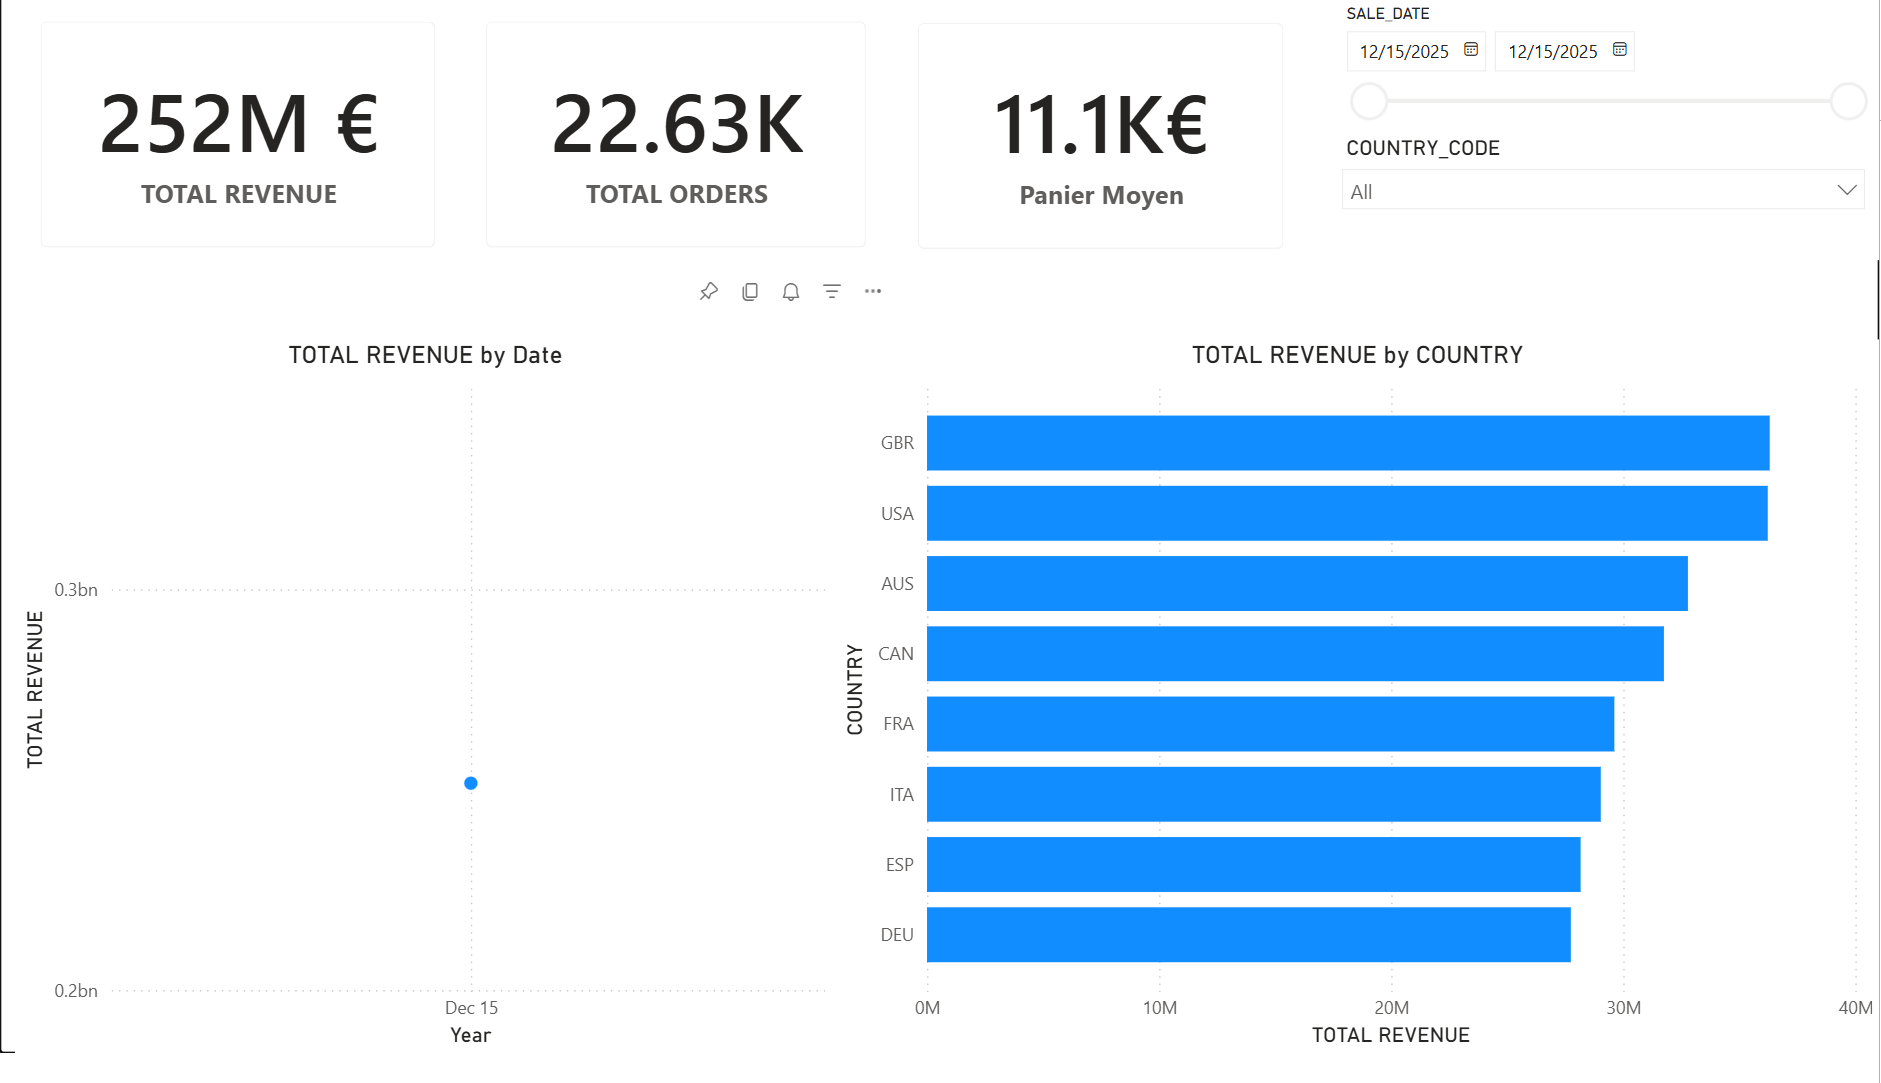

What the dashboard file says about the page in this screenshot:
{"tool":"powerbi","page":{"name":"Vue d'ensemble","canvas":[1280,720],"ordinal":0},"visuals":[{"type":"cardVisual","fields":{"Data":["Sum(MART_SALES_OVERVIEW.TOTAL_REVENUE)"]},"box":[10,0,303.9,188.1],"z":0},{"type":"cardVisual","fields":{"Data":["Sum(MART_SALES_OVERVIEW.TOTAL_ORDERS)"]},"box":[313.9,0,294,188.1],"z":1000},{"type":"lineChart","title":"TOTAL REVENUE by Date","fields":{"Y":["Sum(MART_SALES_OVERVIEW.TOTAL_REVENUE)"],"Category":["MART_SALES_OVERVIEW.SALE_DATE.Variation.Date Hierarchy.Year","MART_SALES_OVERVIEW.SALE_DATE.Variation.Date Hierarchy.Quarter","MART_SALES_OVERVIEW.SALE_DATE.Variation.Date Hierarchy.Month","MART_SALES_OVERVIEW.SALE_DATE.Variation.Date Hierarchy.Day"]},"box":[10,234.2,559.3,485.8],"z":2000},{"type":"barChart","fields":{"Category":["MART_SALES_OVERVIEW.COUNTRY_CODE"],"Y":["Sum(MART_SALES_OVERVIEW.TOTAL_REVENUE)"]},"box":[569.2,234.2,711.2,485.8],"z":3000},{"type":"cardVisual","fields":{"Data":["MART_SALES_OVERVIEW.Panier Moyen"]},"box":[607.8,1.2,284,188.1],"z":4000},{"type":"slicer","fields":{"Values":["MART_SALES_OVERVIEW.SALE_DATE"]},"box":[904.3,0,376.2,89.7],"z":5000},{"type":"slicer","fields":{"Values":["MART_SALES_OVERVIEW.COUNTRY_CODE"]},"box":[904.3,89.7,376.2,89.7],"z":6000}]}

Visuals, with their boxes on the page's 1280x720 design canvas (x1, y1, x2, y2). These are canvas units, not pixel positions in the 1881x1083 screenshot, which may show the page scaled, cropped or inside an application window:
cardVisual - Sum(MART_SALES_OVERVIEW.TOTAL_REVENUE): l=10, t=0, r=314, b=188
cardVisual - Sum(MART_SALES_OVERVIEW.TOTAL_ORDERS): l=314, t=0, r=608, b=188
"TOTAL REVENUE by Date" lineChart: l=10, t=234, r=569, b=720
barChart - MART_SALES_OVERVIEW.COUNTRY_CODE x Sum(MART_SALES_OVERVIEW.TOTAL_REVENUE): l=569, t=234, r=1280, b=720
cardVisual - MART_SALES_OVERVIEW.Panier Moyen: l=608, t=1, r=892, b=189
slicer - MART_SALES_OVERVIEW.SALE_DATE: l=904, t=0, r=1280, b=90
slicer - MART_SALES_OVERVIEW.COUNTRY_CODE: l=904, t=90, r=1280, b=179
